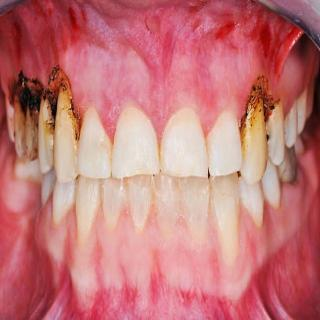Gum Swelling: (36, 200, 241, 298), (59, 47, 262, 142)
calculus: (212, 183, 242, 258), (182, 180, 208, 239), (155, 174, 179, 236), (127, 175, 151, 232), (92, 134, 118, 178), (104, 183, 125, 225)
cavities: (280, 144, 300, 198), (261, 120, 275, 152)
stains: (56, 80, 78, 166), (240, 99, 261, 176), (36, 98, 56, 160), (24, 88, 38, 158), (153, 131, 172, 178), (14, 94, 24, 150)
